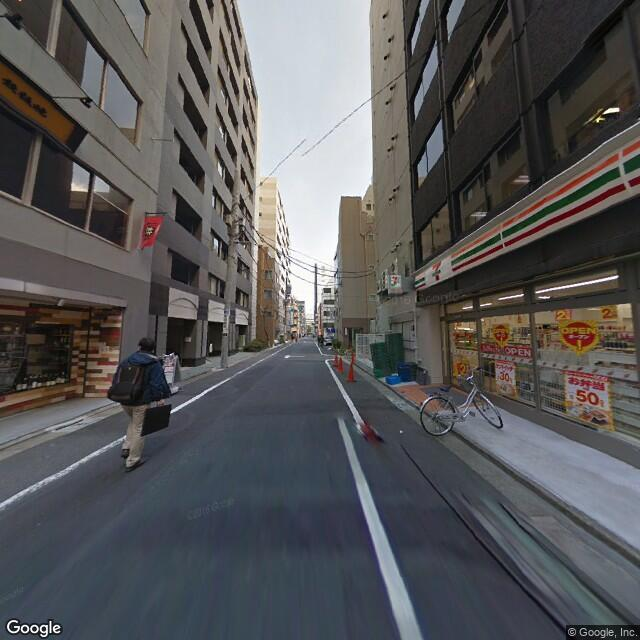7-eleven: (411, 128, 639, 296), (388, 273, 402, 294)
